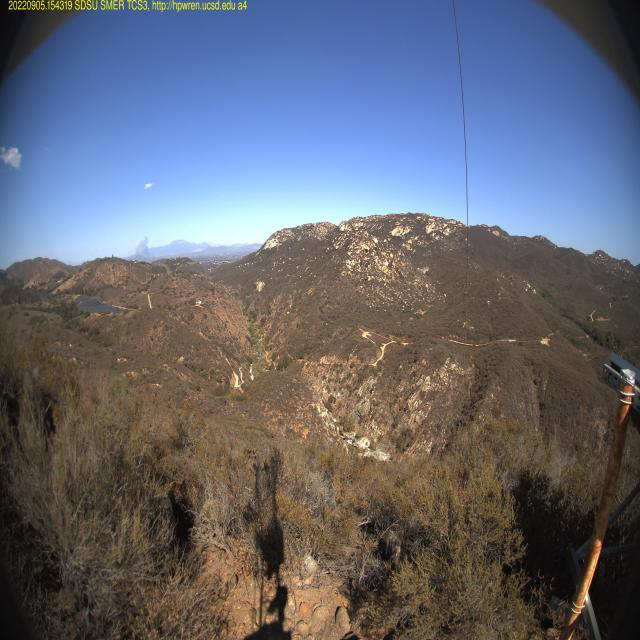smoke: (131, 232, 153, 264)
